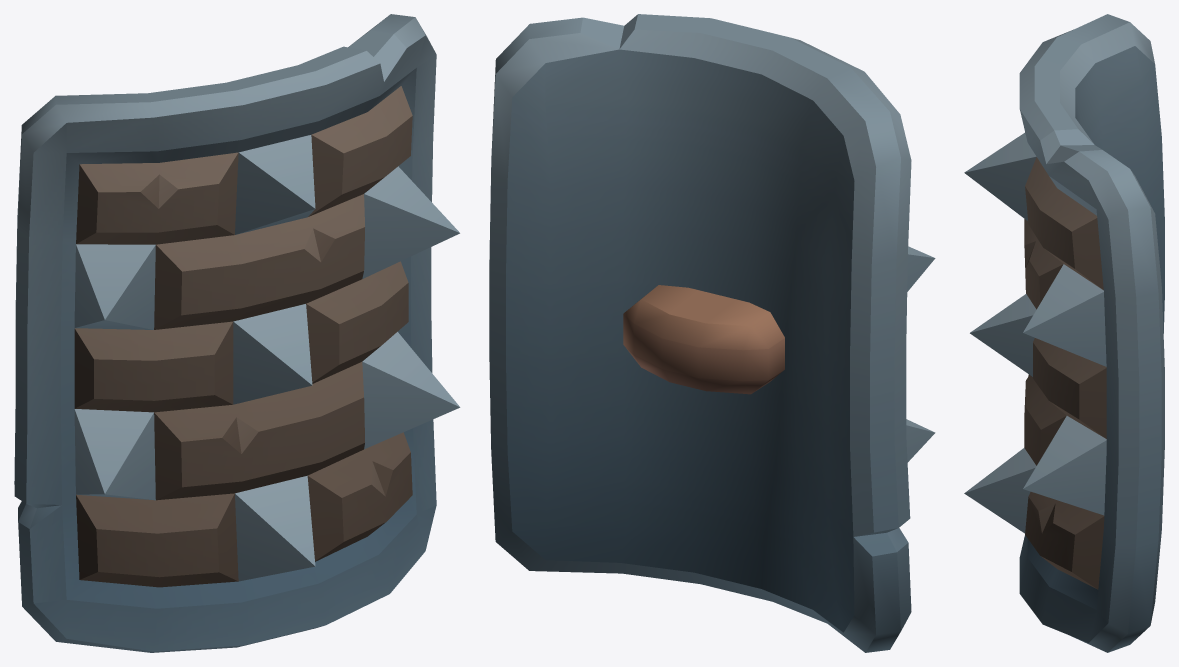
File: shield_C.glb
The picture shows the model from 3 angles, left to right: view 1: azimuth 30°, elevation 25°; view 2: azimuth 150°, elevation 25°; view 3: azimuth 270°, elevation 25°; orthographic projection. The views are drawn at different scales.
Parts seen in each view (by area): view 1: shield_C; view 2: shield_C; view 3: shield_C.
Part boxes in pixels (bbox=[...]): shield_C: bbox=[14, 14, 460, 652]; shield_C: bbox=[489, 14, 935, 652]; shield_C: bbox=[964, 14, 1164, 652].
Size of the model in its own units: 1.02 by 1.33 by 0.4847.
1 material, 1 textured.
